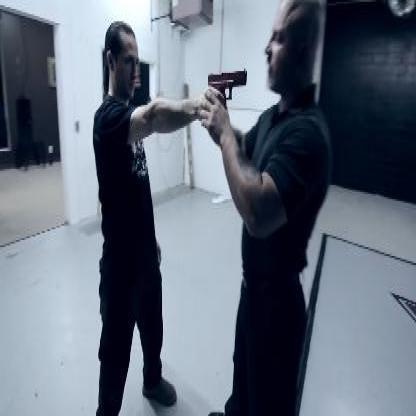pistol: (206, 66, 246, 101)
